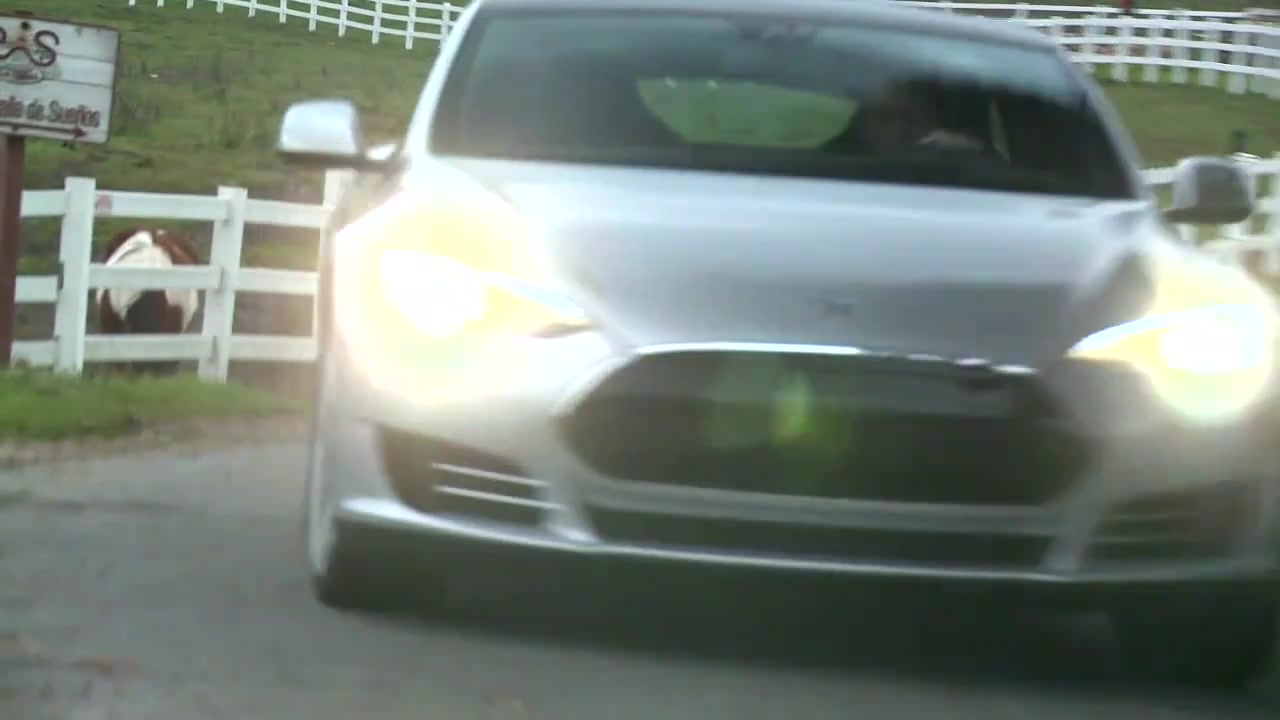car: (272, 5, 1280, 680)
